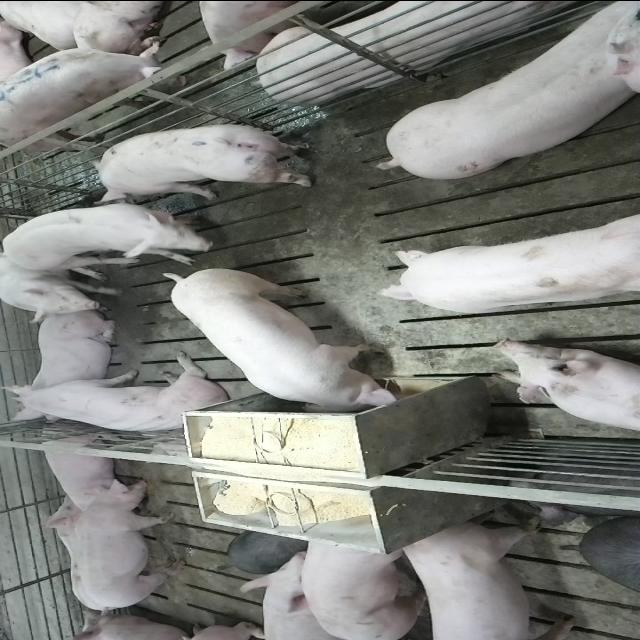Feeding: (164, 271, 405, 421)
Sitting: (5, 354, 231, 436), (1, 250, 131, 320)
Standing: (372, 6, 636, 184), (384, 210, 640, 320), (1, 32, 194, 149), (396, 520, 580, 638), (90, 122, 321, 202), (5, 200, 238, 276), (78, 478, 188, 612), (239, 552, 393, 640), (300, 536, 425, 640)
Sternal_lying: (235, 0, 588, 100), (492, 338, 640, 434), (20, 310, 124, 410), (35, 429, 131, 508)
